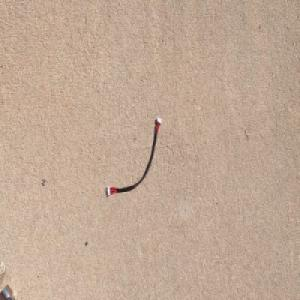Wire: (106, 116, 162, 198)
